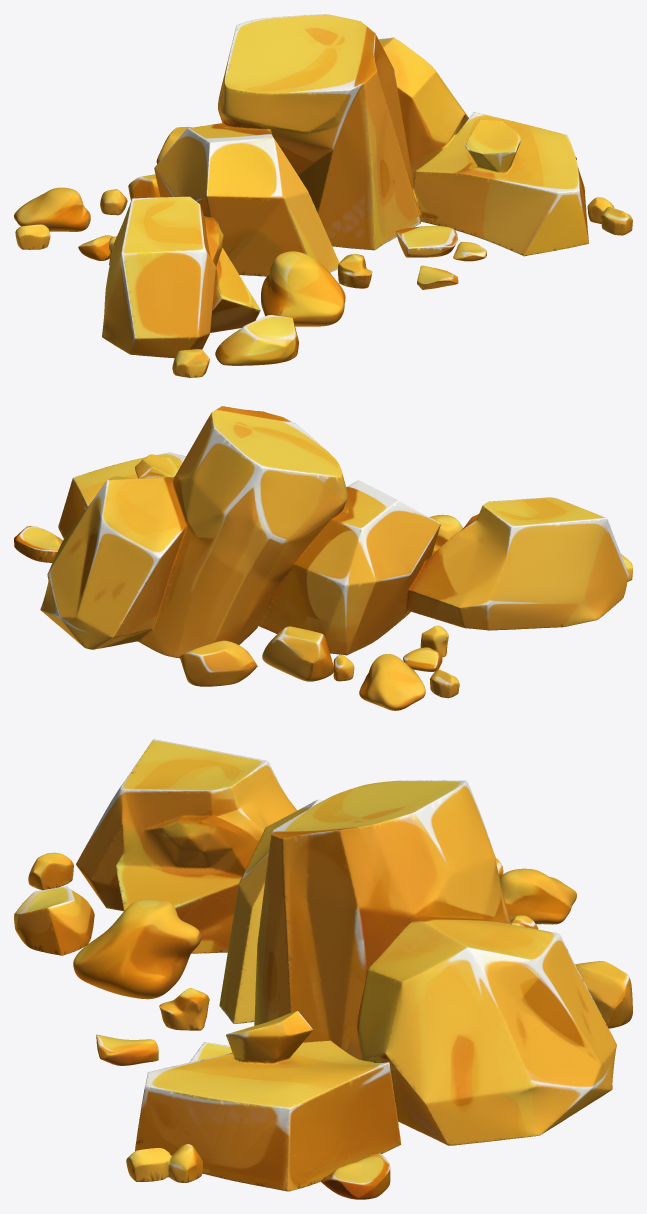
Rendered from Meshy_AI_Heap_of_Gold_Nuggets_0404115335_texture.glb.
3 views of the same model, one above another, from view 1: azimuth 30°, elevation 25°; view 2: azimuth 150°, elevation 25°; view 3: azimuth 270°, elevation 25° (orthographic). The views are drawn at different scales.
Size of the model in its own units: 1.9 by 0.6631 by 1.45.
Materials: 1 (1 with a texture image).
